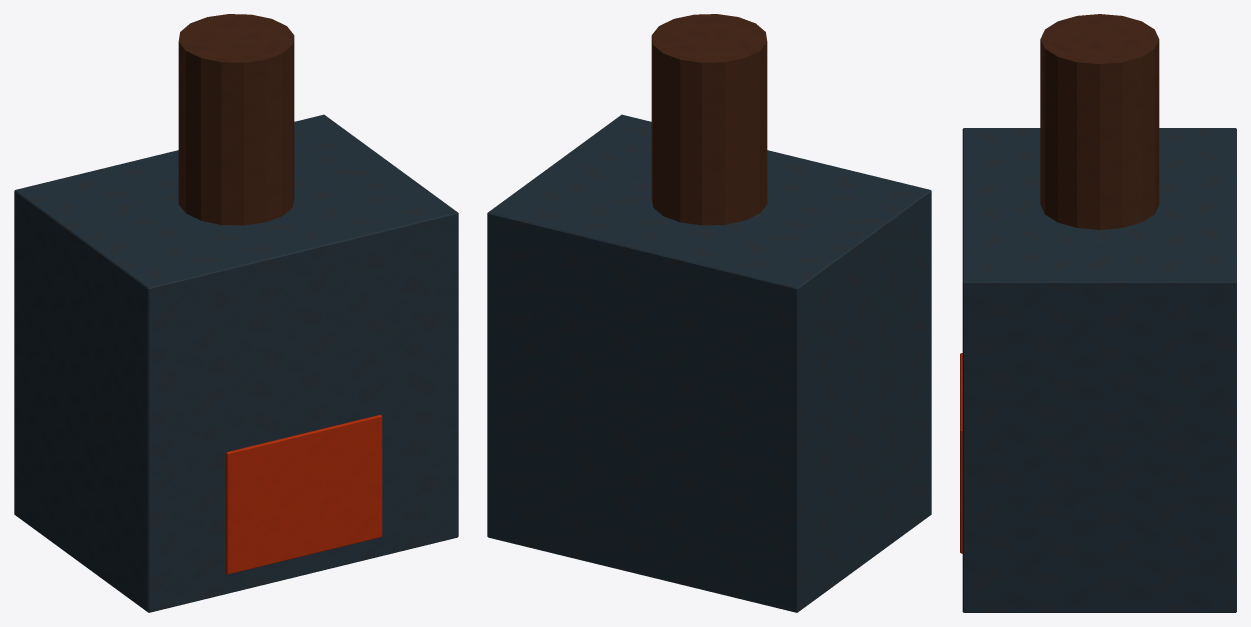
File: Vista_Furnace.fbx
3 renders of one model, left to right at view 1: azimuth 30°, elevation 25°; view 2: azimuth 150°, elevation 25°; view 3: azimuth 270°, elevation 25°, orthographic.
Parts seen in each view (by area): view 1: ENV_Foundry_Vista_Furnace_LOD0; view 2: ENV_Foundry_Vista_Furnace_LOD0; view 3: ENV_Foundry_Vista_Furnace_LOD0.
Boxes of the visible parts, left/top/right/bottom form: ENV_Foundry_Vista_Furnace_LOD0: left=14, top=14, right=458, bottom=612; ENV_Foundry_Vista_Furnace_LOD0: left=487, top=14, right=931, bottom=612; ENV_Foundry_Vista_Furnace_LOD0: left=960, top=14, right=1236, bottom=612.
Size of what is drawn, in the model's own units: 8 by 12 by 6.06.
